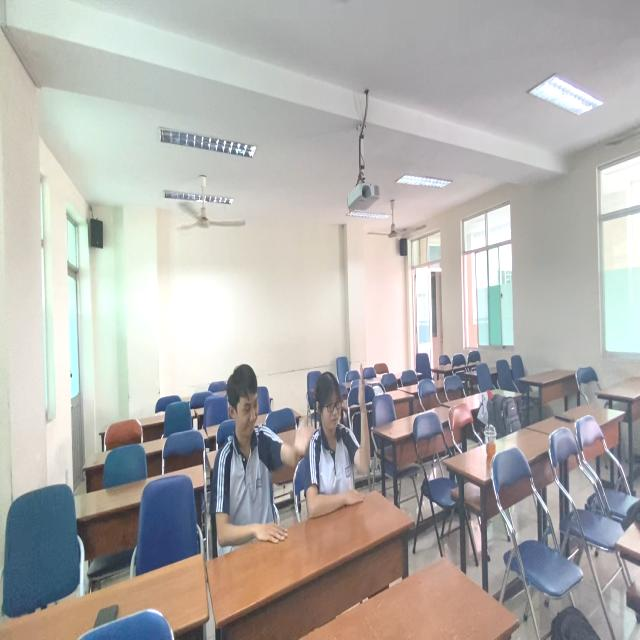raise_hand: (310, 370, 378, 520)
